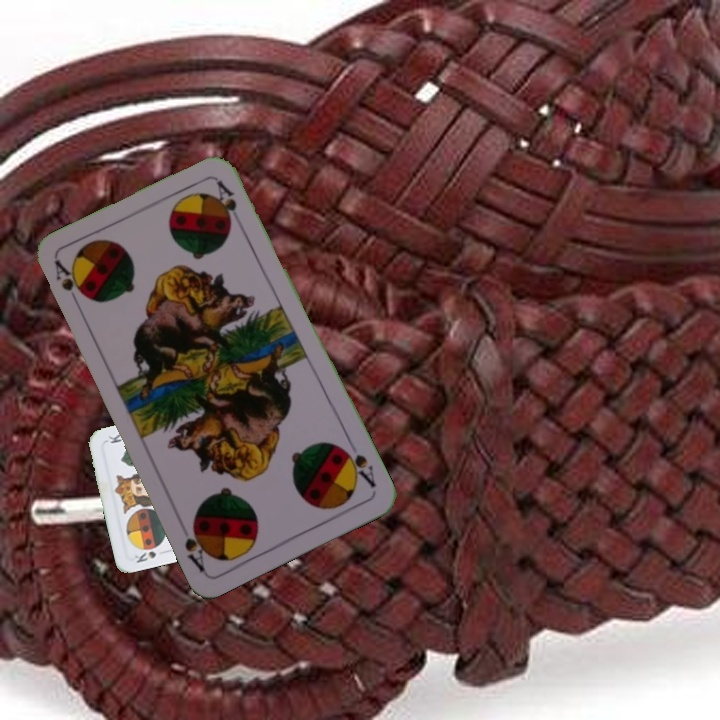SA: (336, 442, 378, 491), (51, 256, 86, 313)
SK: (130, 541, 163, 565)
